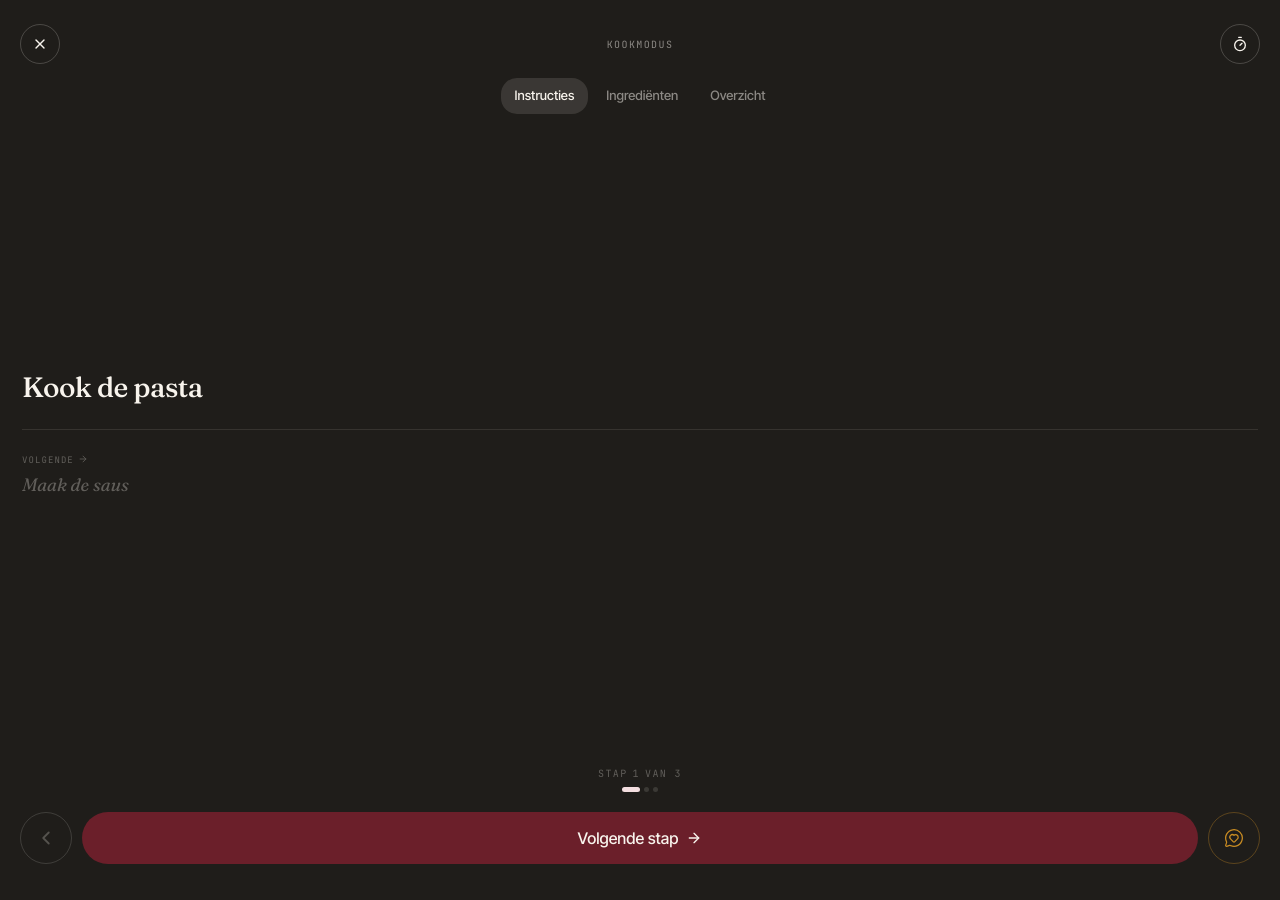
Test case: CookingScreen › comment sheet › opens the comment sheet when the comment button is clicked
This screenshot has width=1280, height=900.
Click the button named "Opmerking" at (1234, 838), box [1208,812,1260,864]
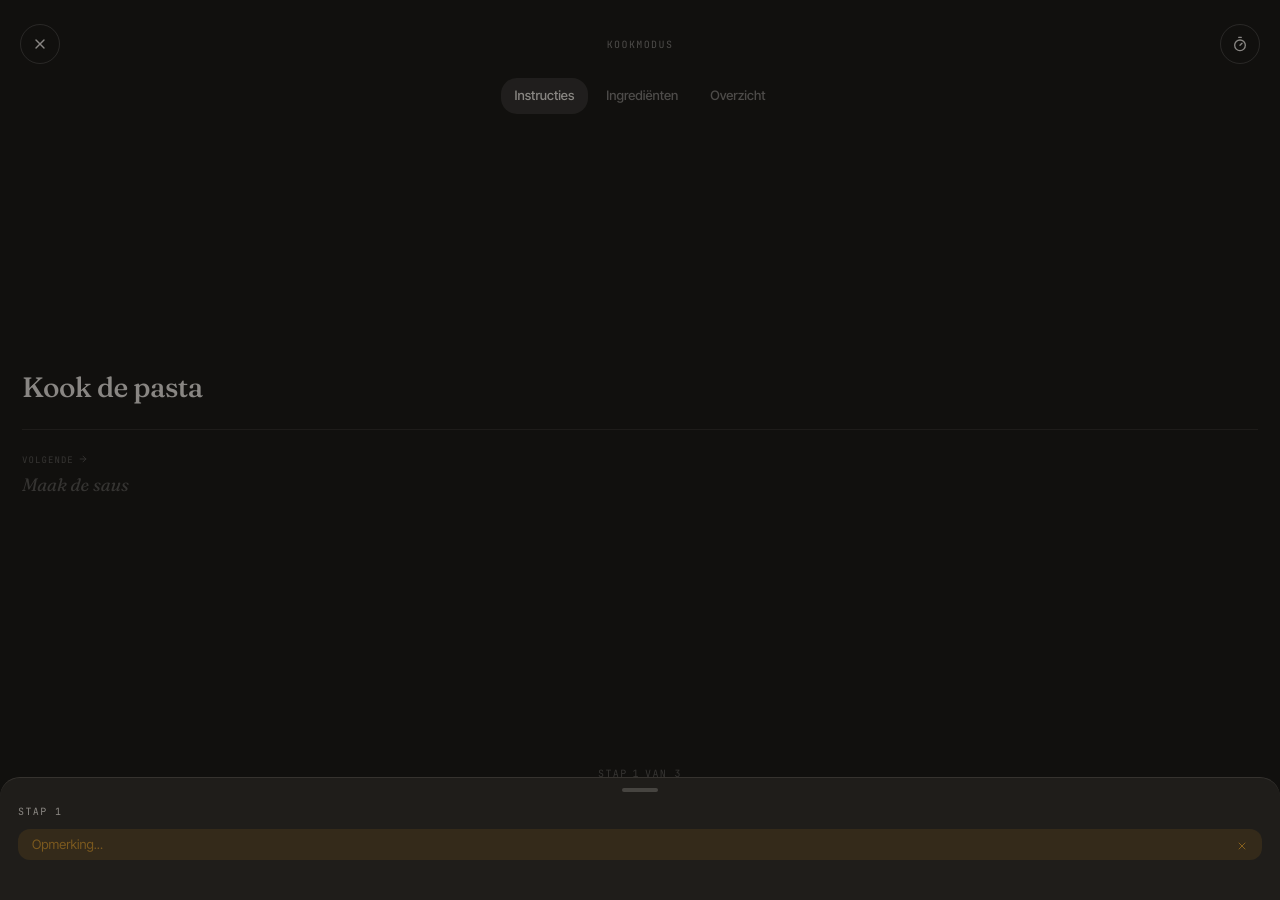
expect the element with test id "comment-backdrop" is shown: met
